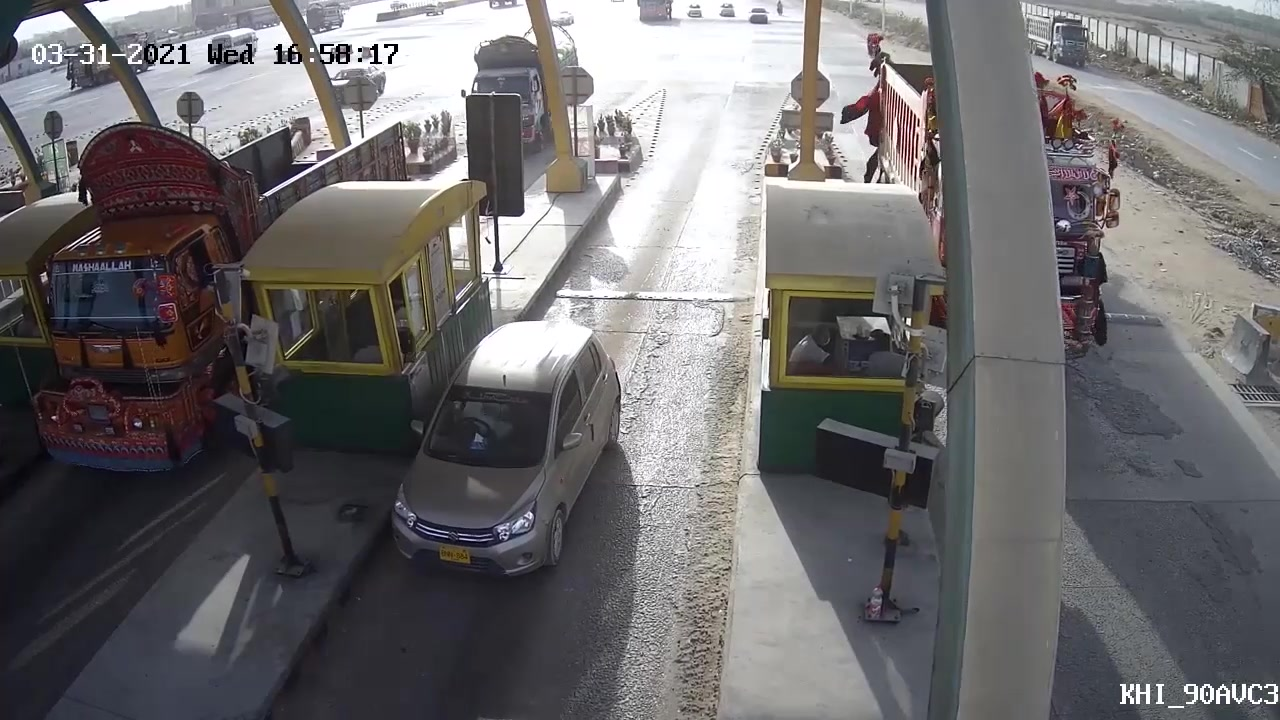F1: (382, 321, 626, 587)
